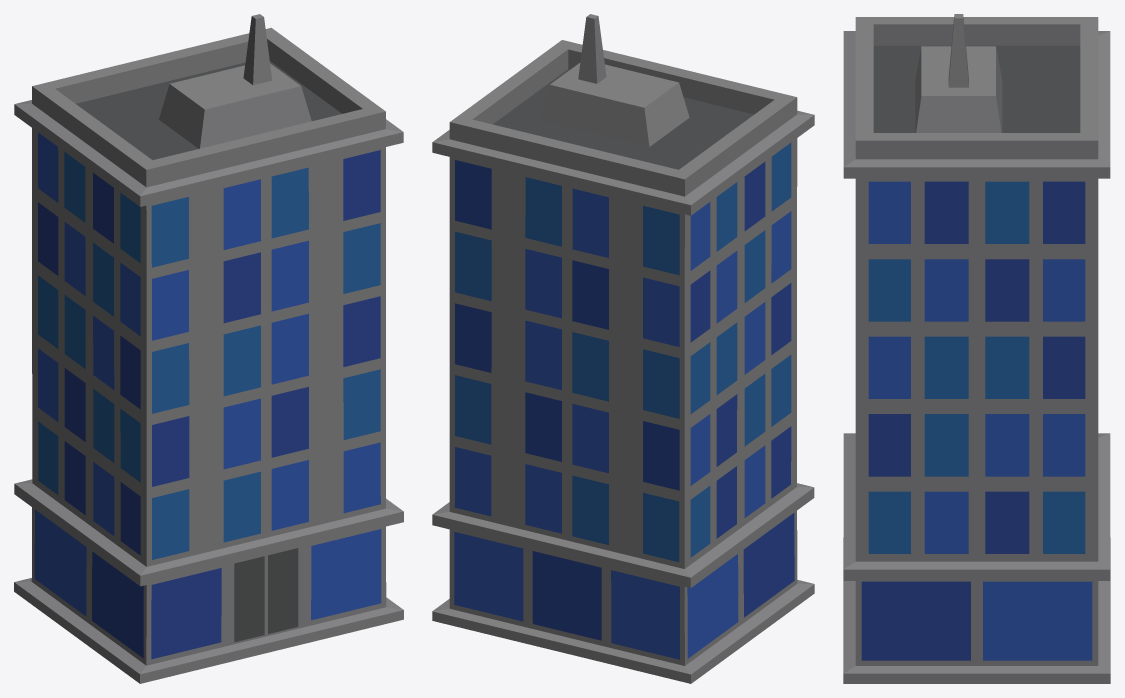
The model's file is HighHouse 1.1.fbx.
3 renders of one model, left to right at view 1: azimuth 30°, elevation 25°; view 2: azimuth 150°, elevation 25°; view 3: azimuth 270°, elevation 25°, orthographic. The views are drawn at different scales.
Visible parts, largest first — view 1: HighHouse_1_01; view 2: HighHouse_1_01; view 3: HighHouse_1_01.
Boxes of the visible parts, box(x1,y1,x2,y2) form: HighHouse_1_01: box(14, 14, 403, 683); HighHouse_1_01: box(432, 14, 814, 683); HighHouse_1_01: box(843, 14, 1110, 683).
Size of the model in its own units: 551 by 1168 by 456.
